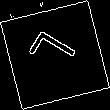L_SE: (25, 29, 85, 81)
